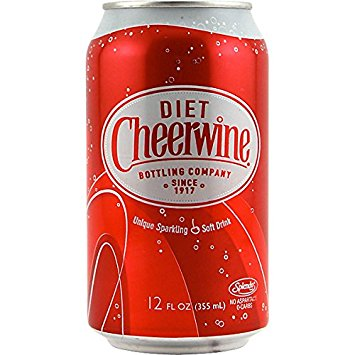can: (84, 3, 272, 355)
